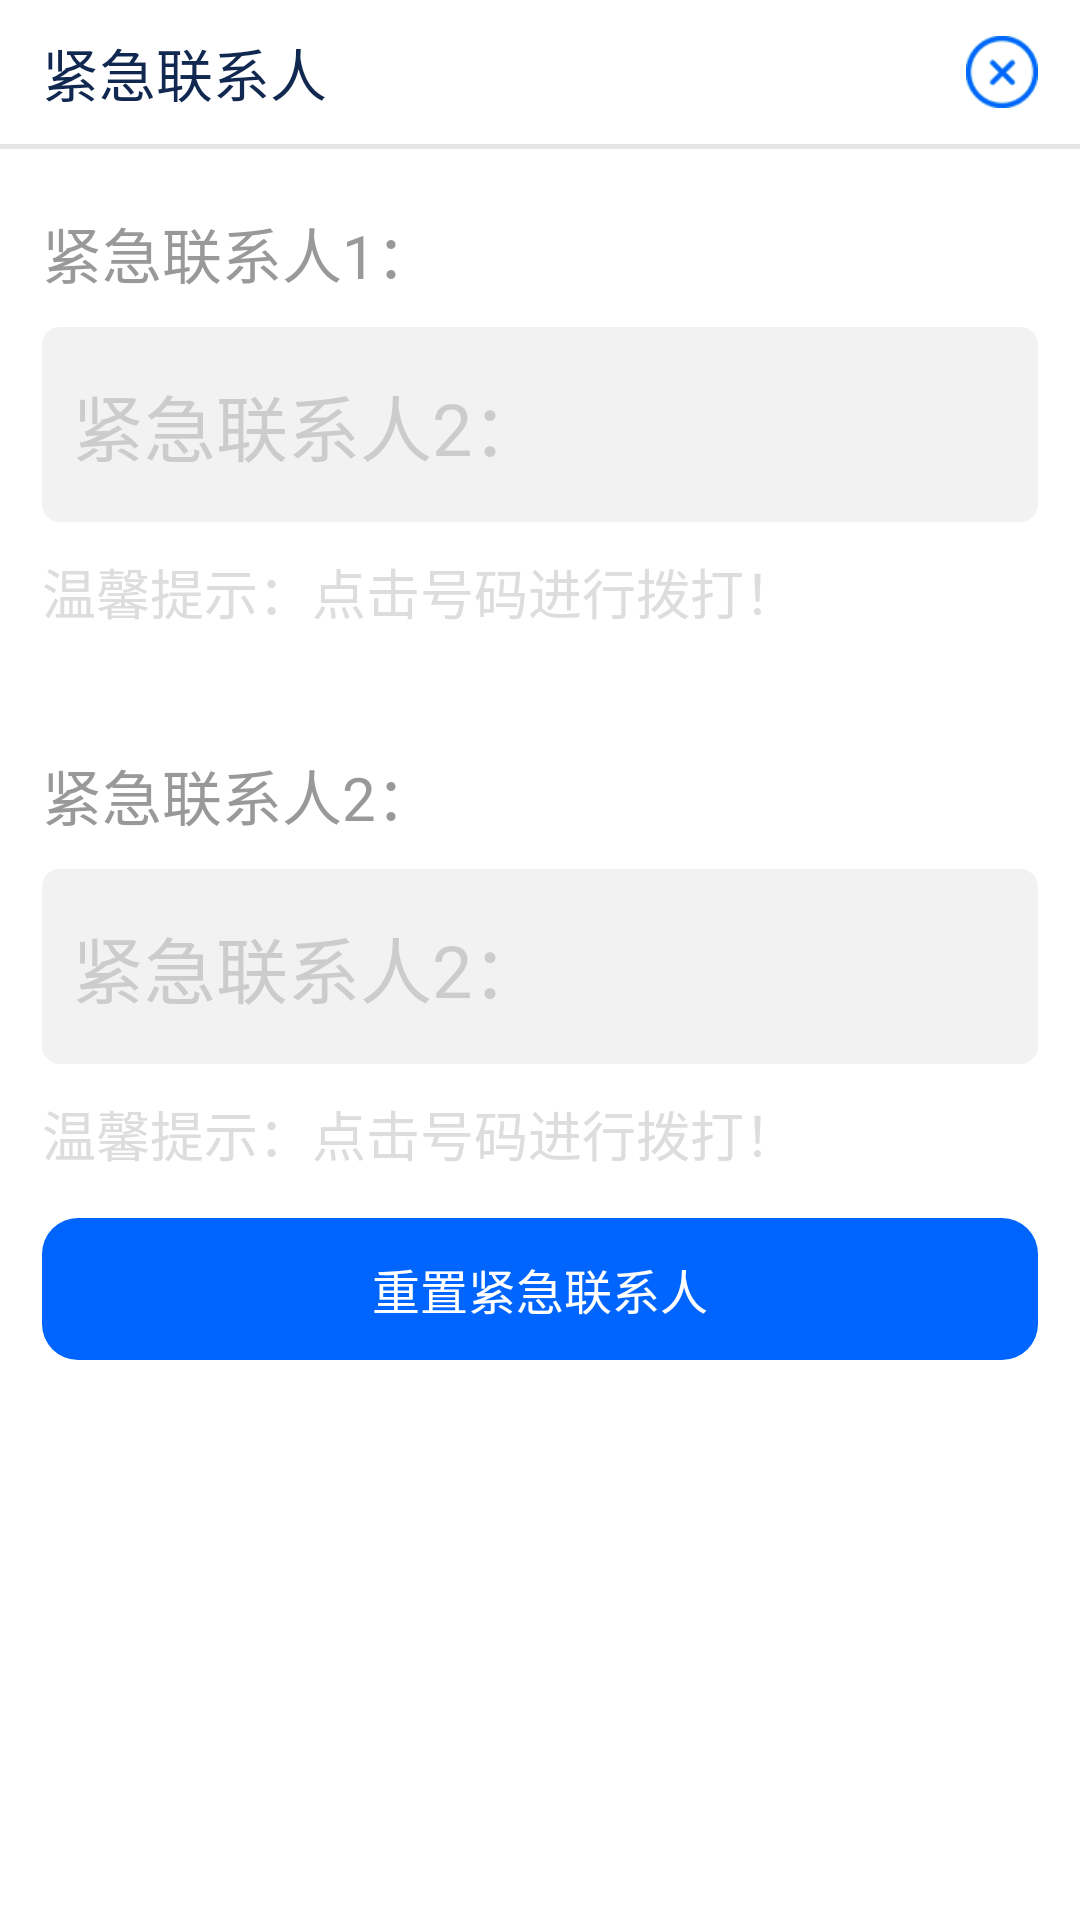

Where icons sit on this 1080 x 1920 app screen, as (x1, y1, x2, y2):
emergency contact list close: (966, 36, 1038, 108)
